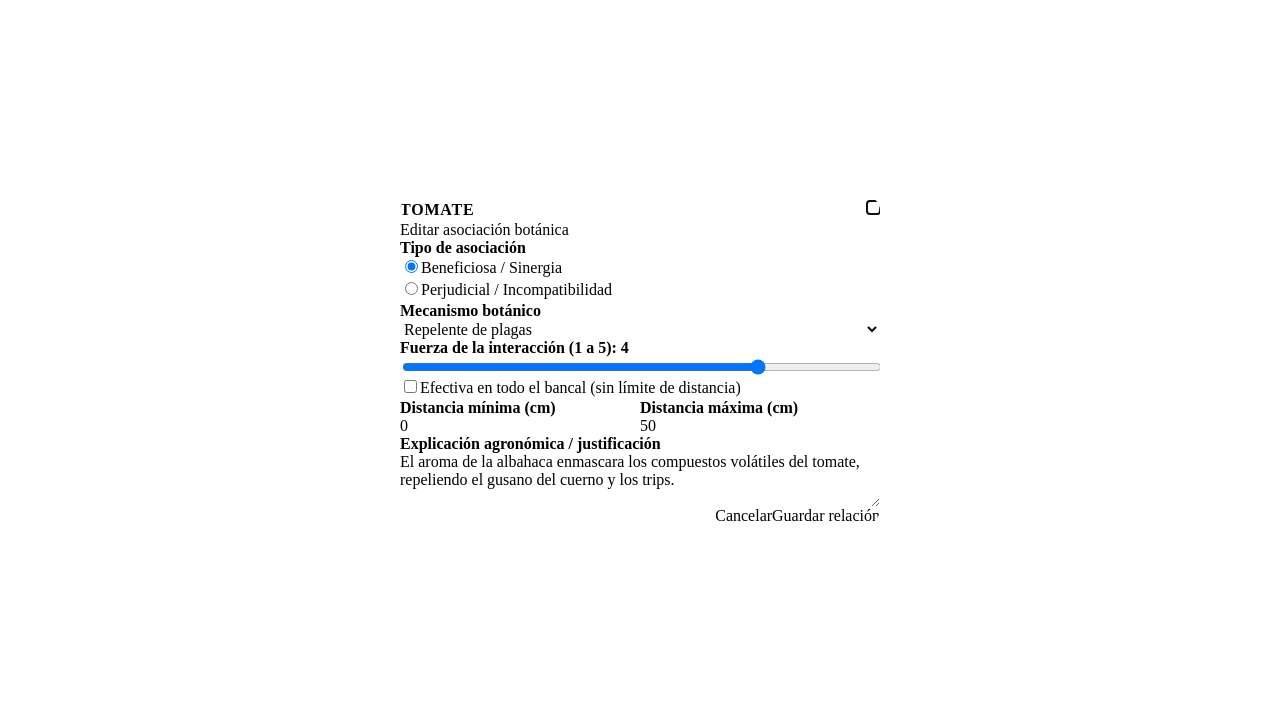
Test: PlantRelationFormModal › displays validation error and halts submit when minimum distance exceeds maximum distance
Replace the text in the number field labelled "Distancia mínima (cm)" with "80" at [520, 426], box 400,417 -> 640,435
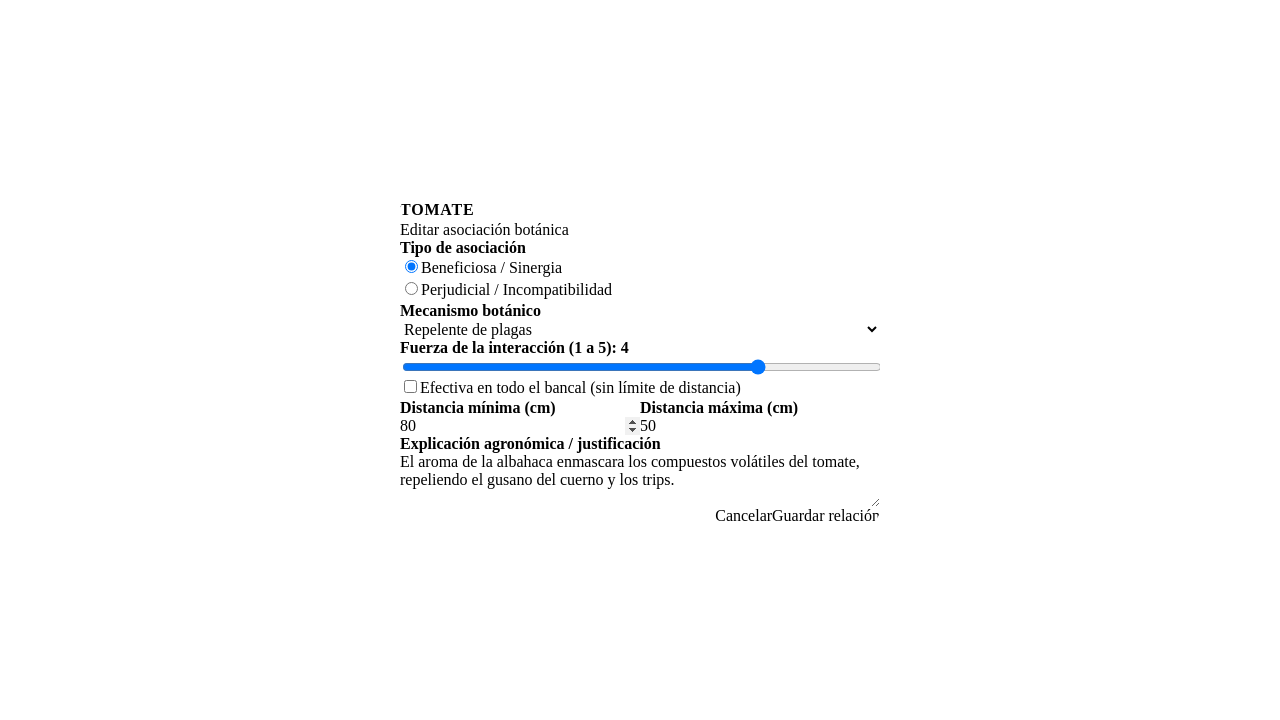
Replace the text in the number field labelled "Distancia máxima (cm)" with "20" at [760, 426], box 640,417 -> 880,435
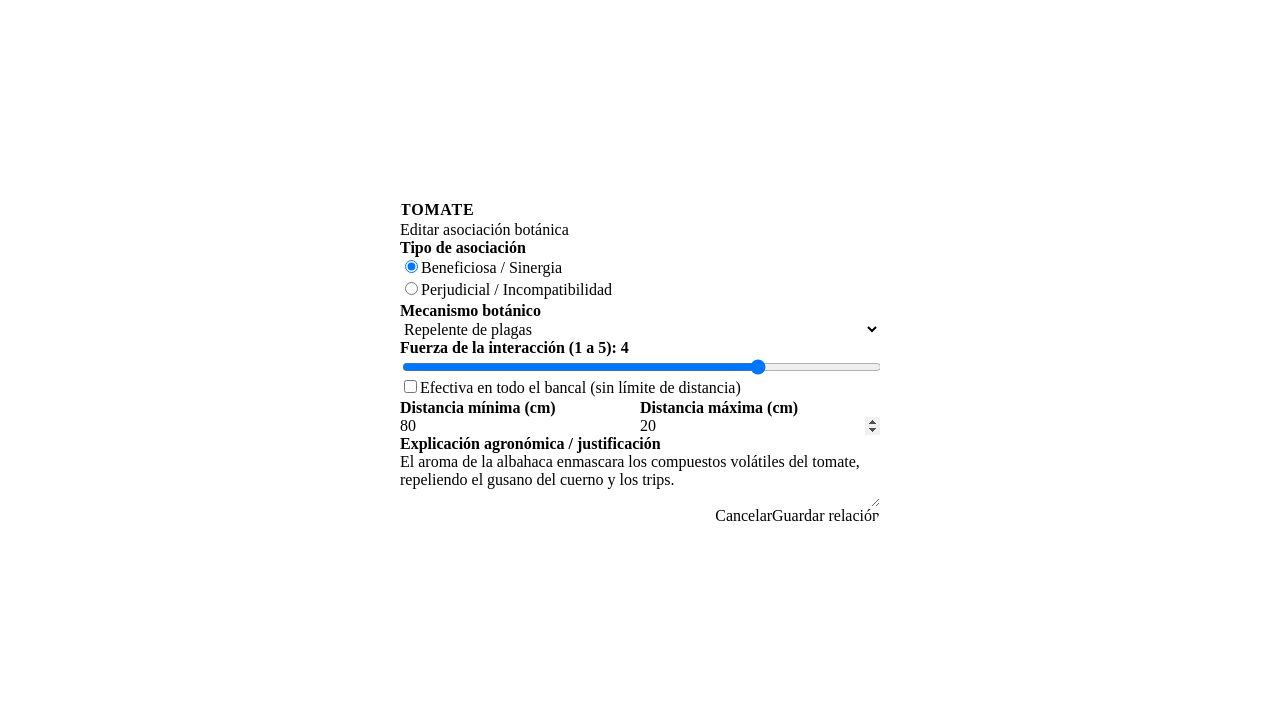
Click the button "Guardar relación" at [826, 516], box 772,507 -> 880,525
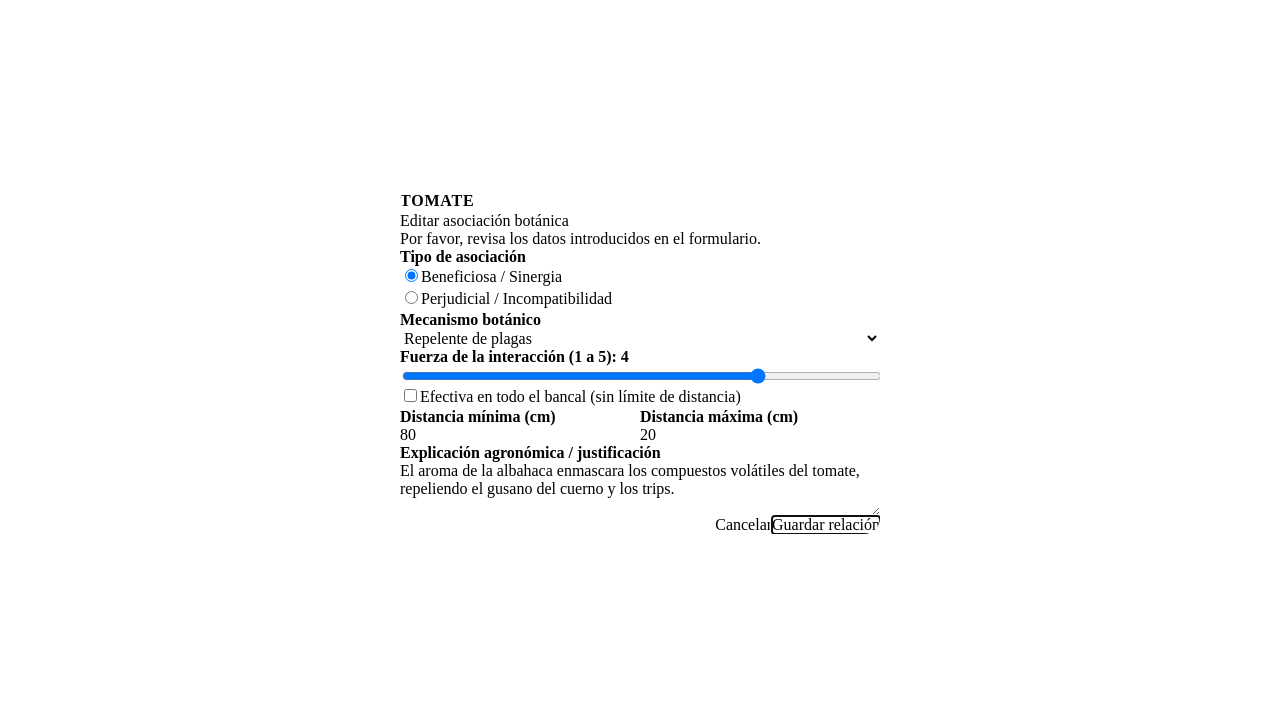
Check: the text "Por favor, revisa los datos introducidos en el formulario." is shown, box 400,230 -> 761,247
